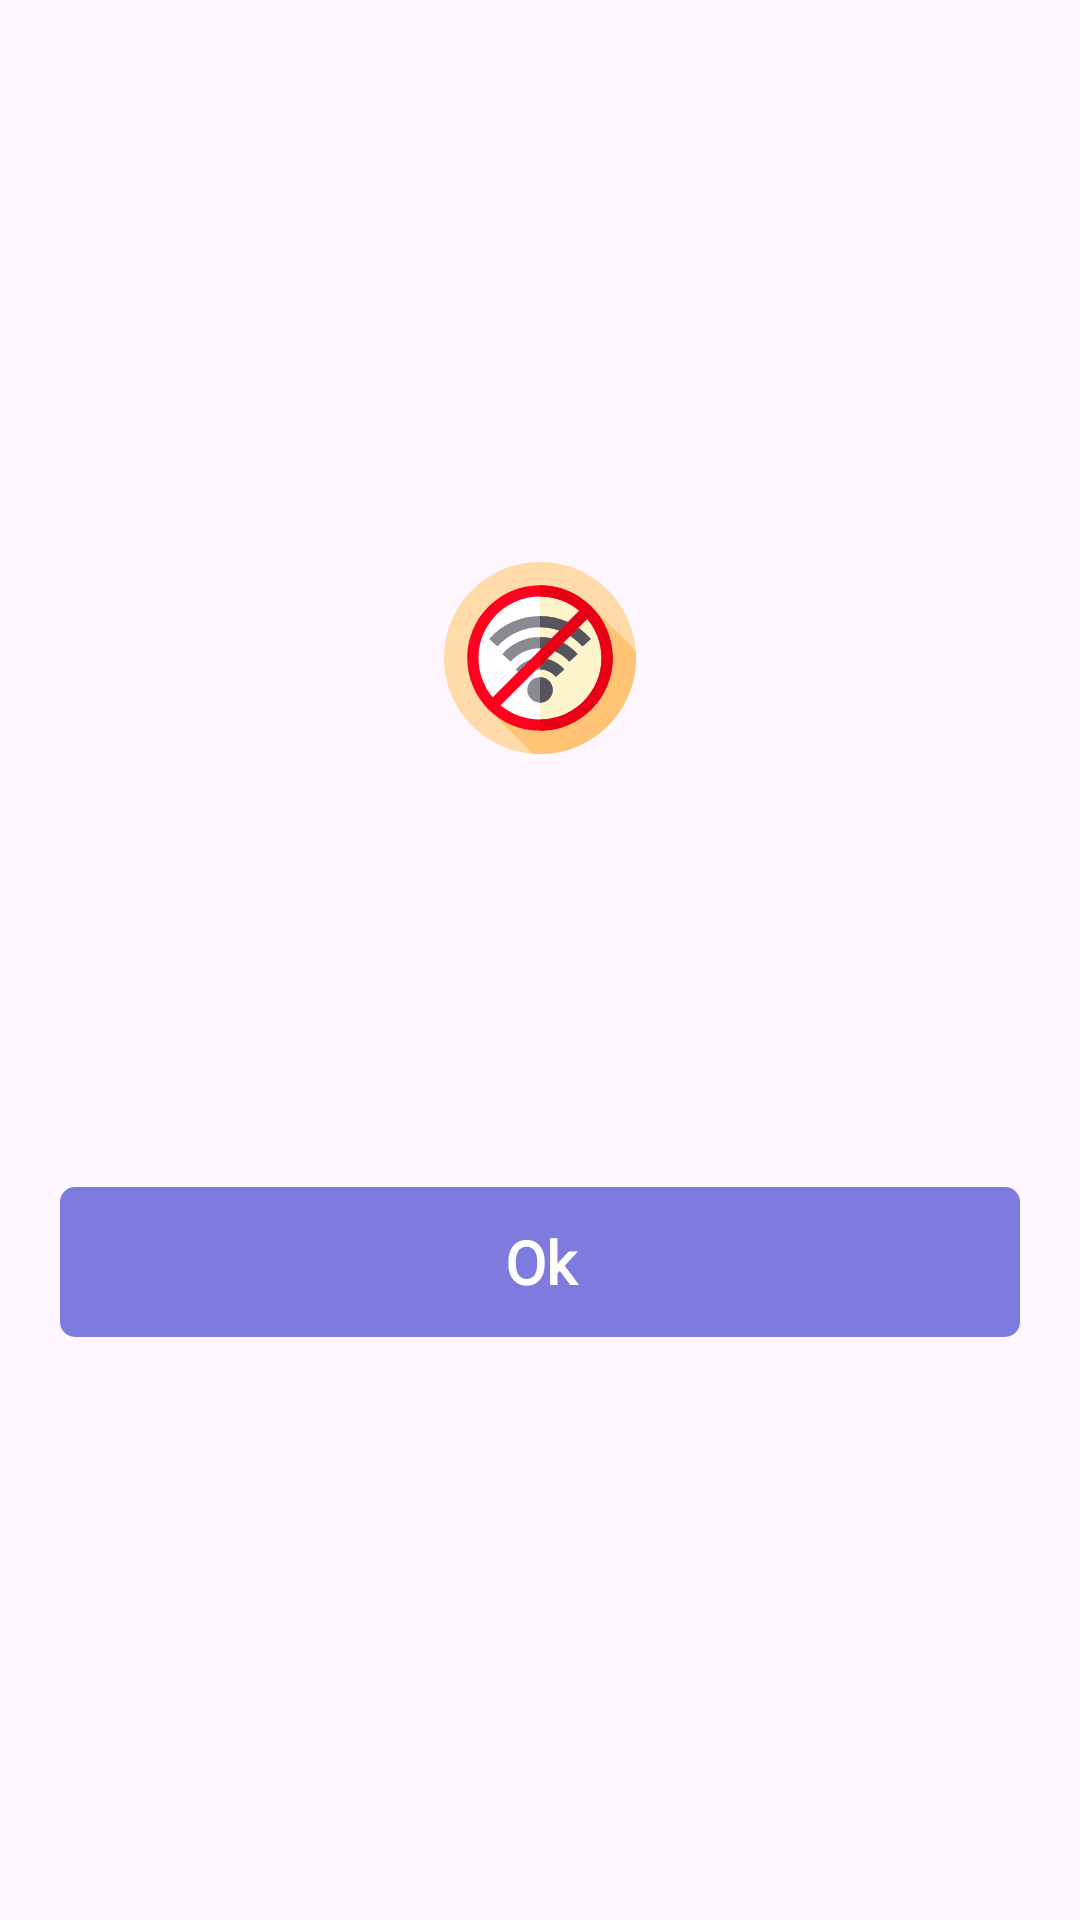

Icon click points for this 1080*1920 phone screenshot, format (x=x, y=y):
no internet: (x=540, y=658)
